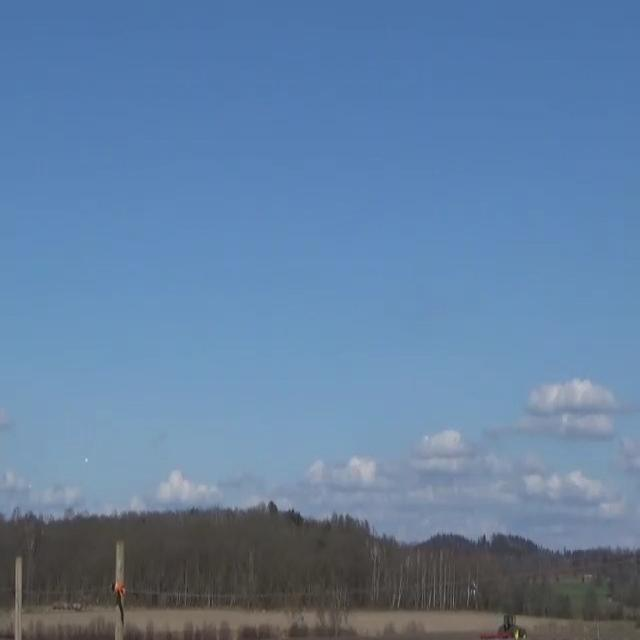drone: (85, 458, 88, 462)
